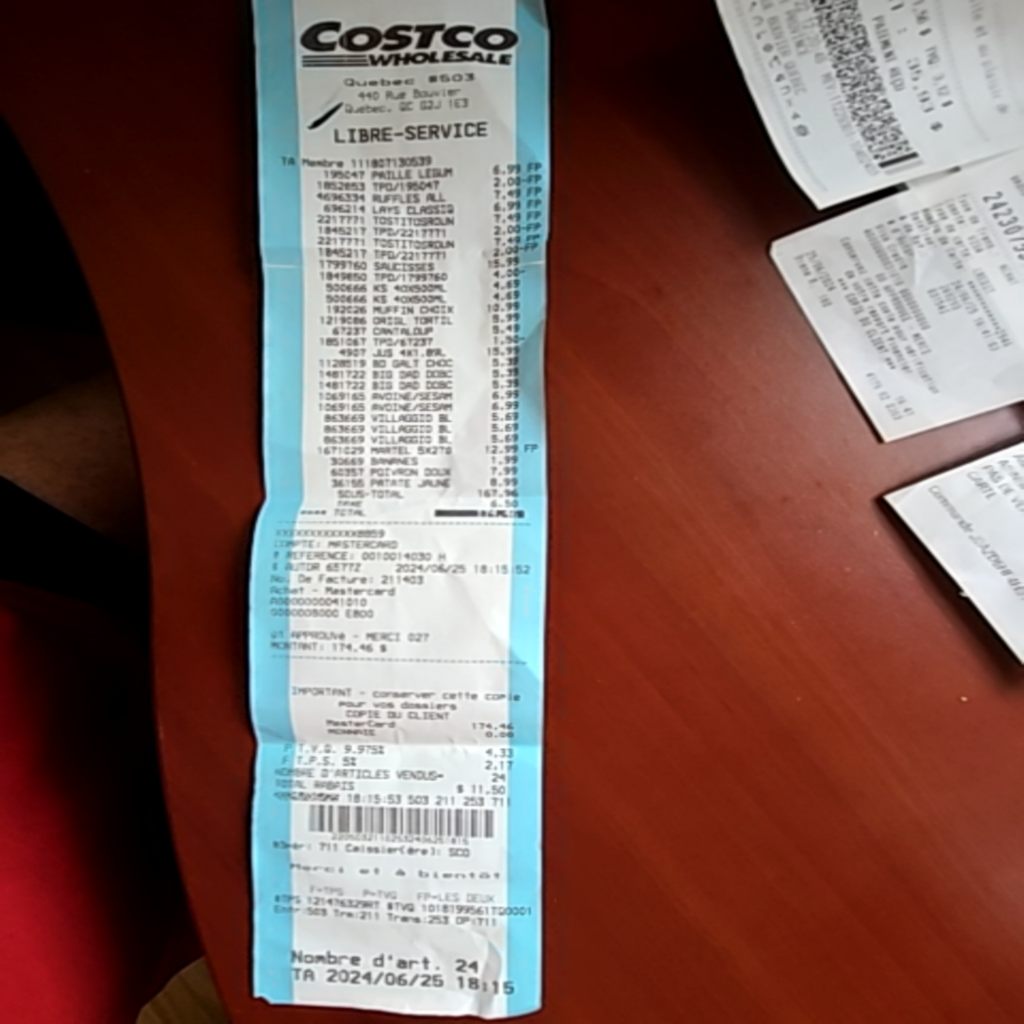recipt: (246, 0, 550, 1018)
